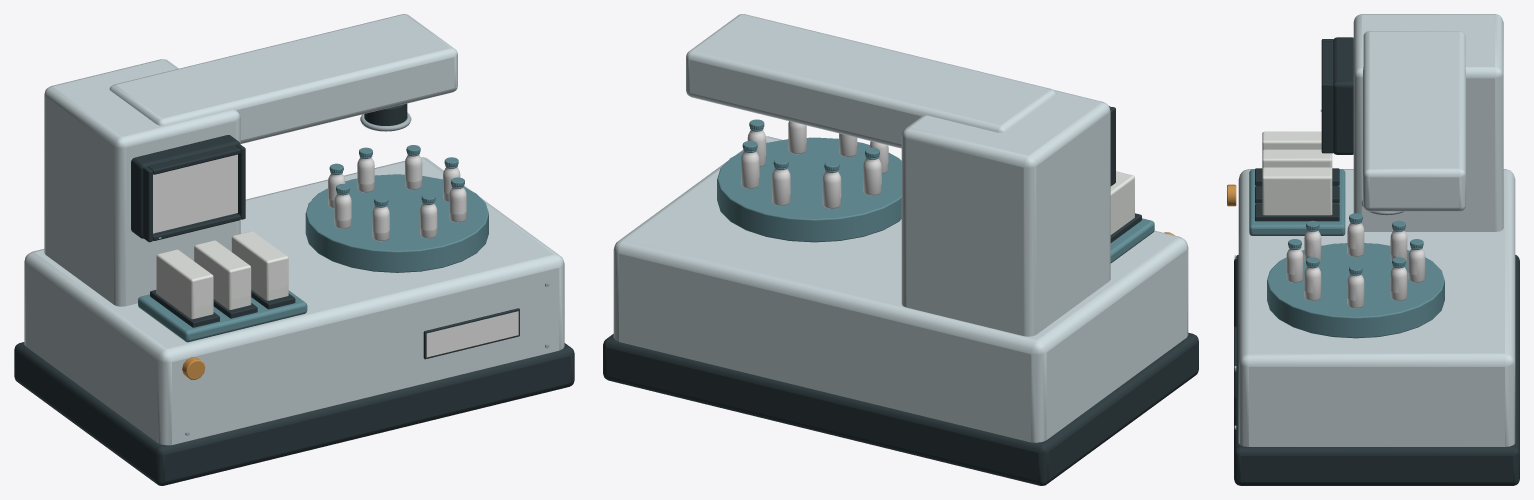
Rendered from CP_OpticalAnalyzer.fbx.
3 views of the same model, side by side, from view 1: azimuth 30°, elevation 25°; view 2: azimuth 150°, elevation 25°; view 3: azimuth 270°, elevation 25° (orthographic). The views are drawn at different scales.
Visible parts, largest first — view 1: CP_OpticalAnalyzer; view 2: CP_OpticalAnalyzer; view 3: CP_OpticalAnalyzer.
Boxes of the visible parts, x1,y1,x2,y2 form: CP_OpticalAnalyzer: (14,14,574,485); CP_OpticalAnalyzer: (603,14,1198,485); CP_OpticalAnalyzer: (1227,14,1519,485).
Bounding box in the file's own units: 100 × 69.2 × 62.5.
